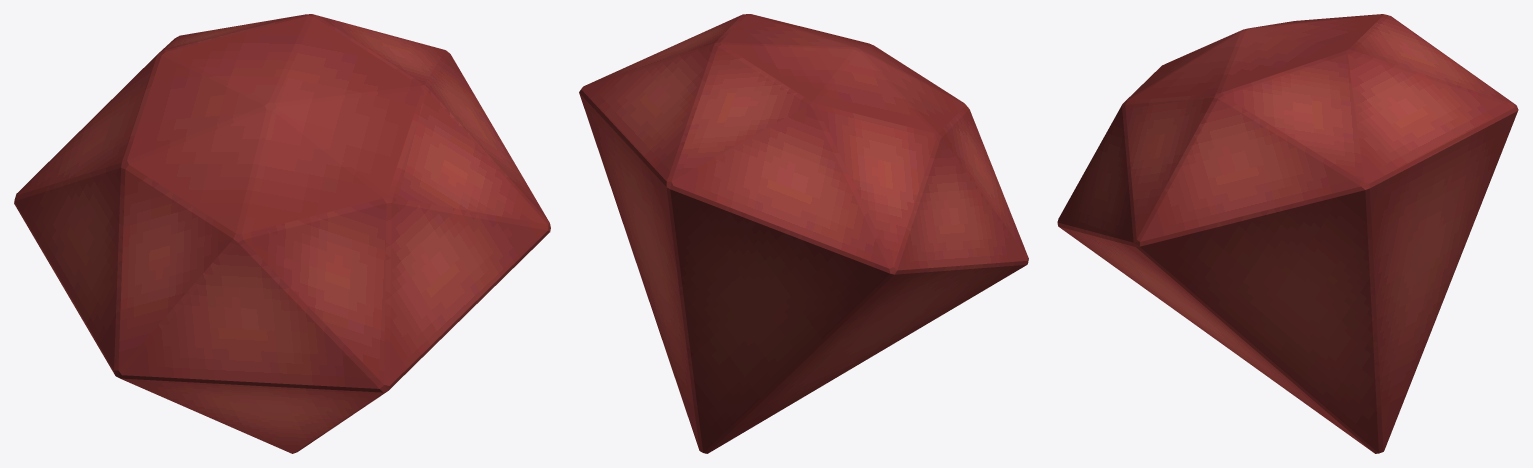
Rendered from trinketWarmRuby.fbx.
3 views of the same model, side by side, from view 1: azimuth 30°, elevation 25°; view 2: azimuth 150°, elevation 25°; view 3: azimuth 270°, elevation 25° (orthographic). The views are drawn at different scales.
Visible parts, largest first — view 1: trinketWarmRuby; view 2: trinketWarmRuby; view 3: trinketWarmRuby.
Boxes of the visible parts, x1,y1,x2,y2 form: trinketWarmRuby: (14,14,550,453); trinketWarmRuby: (579,14,1028,453); trinketWarmRuby: (1057,14,1518,453).
Size of the model in its own units: 1.28 by 1.31 by 1.35.
